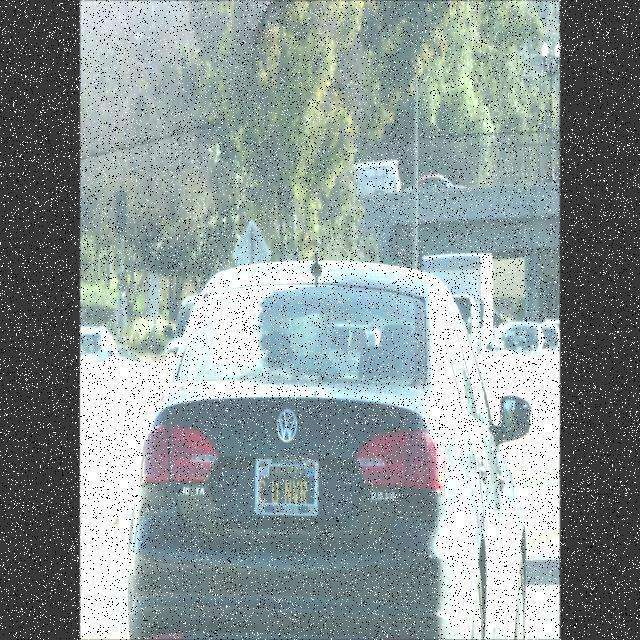License Plate: (248, 444, 332, 536)
